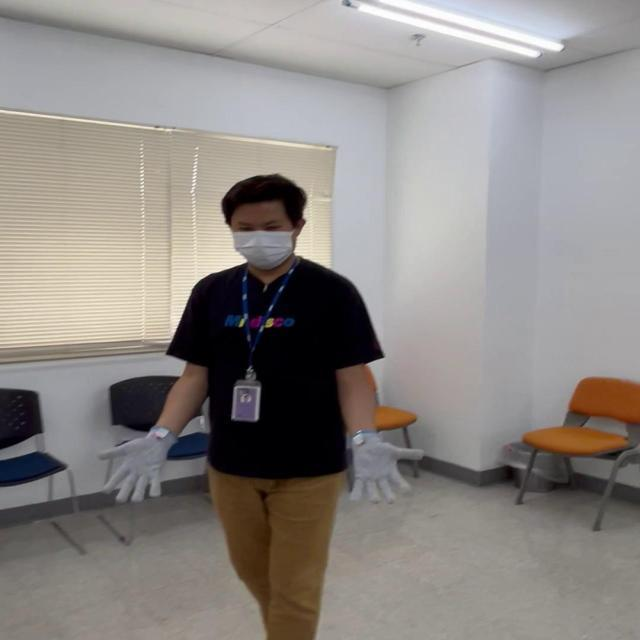gloved_hand: (341, 429, 425, 504), (103, 425, 178, 498)
